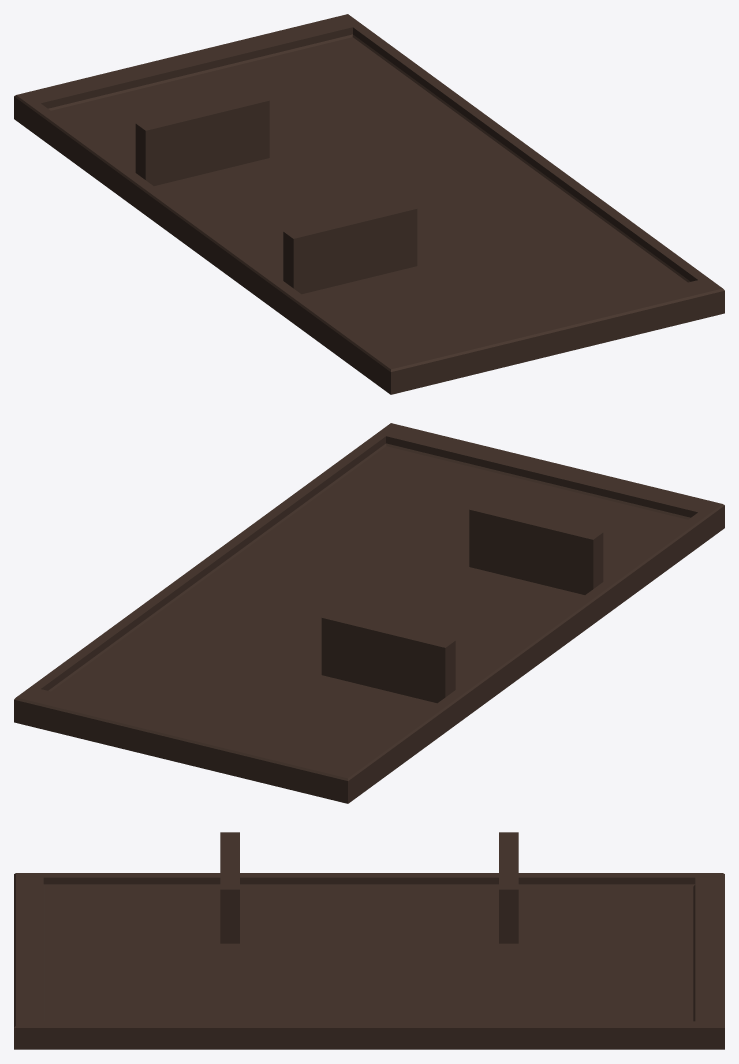
The model's file is TrayOnly.fbx.
The picture shows the model from 3 angles, top to bottom: view 1: azimuth 30°, elevation 25°; view 2: azimuth 150°, elevation 25°; view 3: azimuth 270°, elevation 25°; orthographic projection. The views are drawn at different scales.
Parts seen in each view (by area): view 1: Tray; view 2: Tray; view 3: Tray.
Boxes of the visible parts, box(x1,y1,x2,y2) form: Tray: box(14, 14, 724, 394); Tray: box(14, 423, 724, 803); Tray: box(14, 832, 724, 1049).
Bounding box in the file's own units: 236 × 49.27 × 461.
